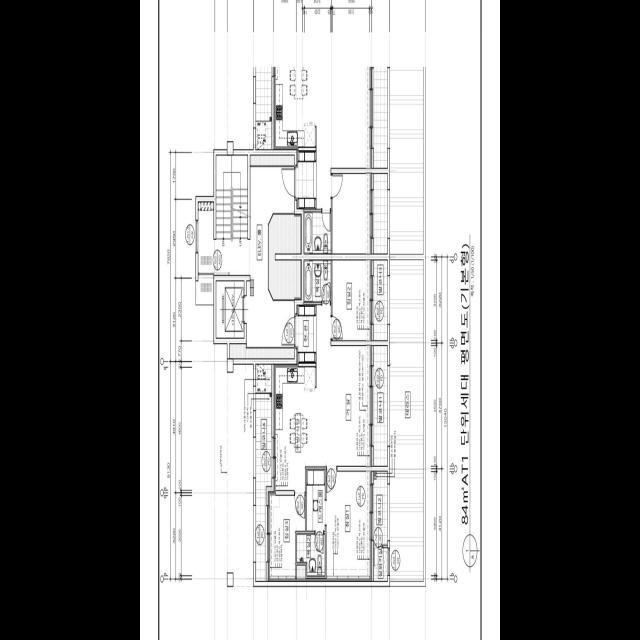background: (140, 0, 500, 640)
space_balconi: (256, 364, 272, 580), (374, 346, 387, 465), (374, 260, 387, 340), (374, 471, 387, 544)
space_bedroom: (326, 469, 371, 580), (269, 492, 305, 581), (333, 259, 371, 340)
space_dressroom: (307, 469, 325, 531)
space_elevator: (216, 281, 244, 337)
space_elevator_hall: (247, 166, 294, 346)
space_front: (296, 304, 316, 362)
space_kitchen: (274, 363, 316, 490)
space_living_room: (316, 305, 371, 466)
space_other: (269, 214, 301, 299), (230, 344, 294, 358), (250, 155, 294, 165), (297, 565, 306, 580)
space_outdoor_room: (374, 548, 387, 581)
space_staircase: (198, 155, 248, 274)
space_toilet: (297, 534, 325, 575), (304, 260, 331, 301)
